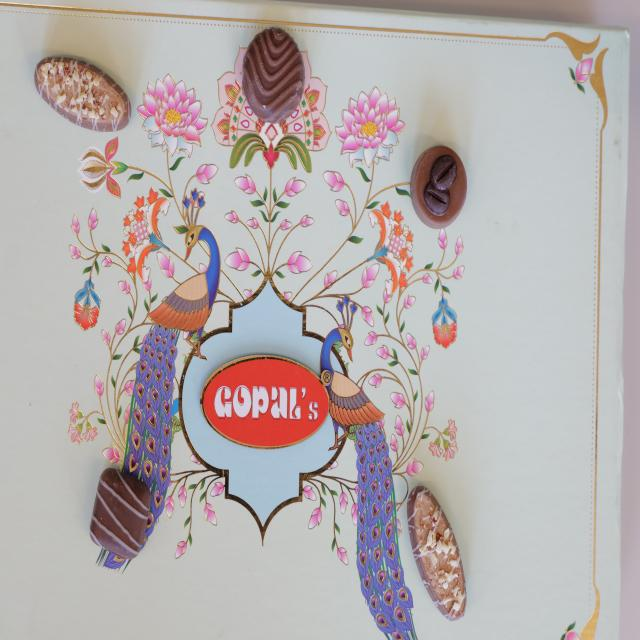Amandina: (406, 482, 471, 622), (35, 51, 134, 136)
Arabia: (410, 139, 470, 233)
Noir_authentique: (241, 26, 307, 126)
Stracciatella: (88, 462, 154, 564)
